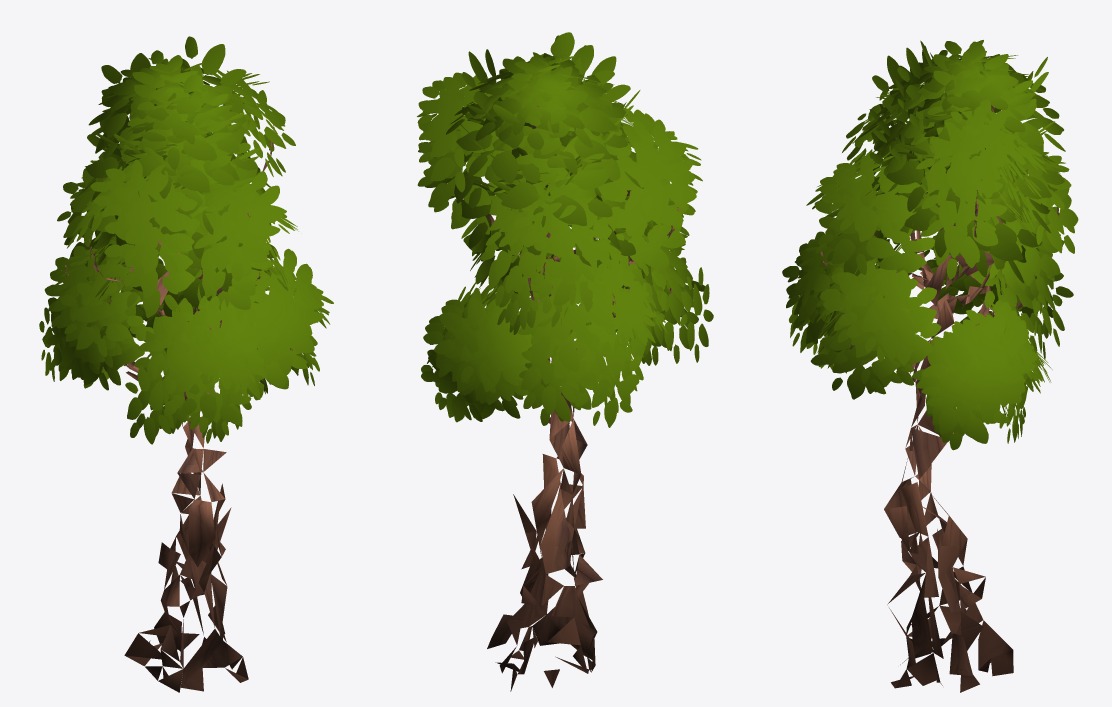
Rendered from CommonTree_1_lod1.glb.
3 renders of one model, left to right at view 1: azimuth 30°, elevation 25°; view 2: azimuth 150°, elevation 25°; view 3: azimuth 270°, elevation 25°, orthographic. The views are drawn at different scales.
Parts seen in each view (by area): view 1: CommonTree_1; view 2: CommonTree_1; view 3: CommonTree_1.
Part boxes in pixels (x1,y1,x2,y2): CommonTree_1: (39, 36, 333, 692); CommonTree_1: (417, 32, 713, 691); CommonTree_1: (782, 40, 1078, 692).
Size of the model in its own units: 3.25 by 7.26 by 3.51.
Materials: 2 (2 with a texture image).
